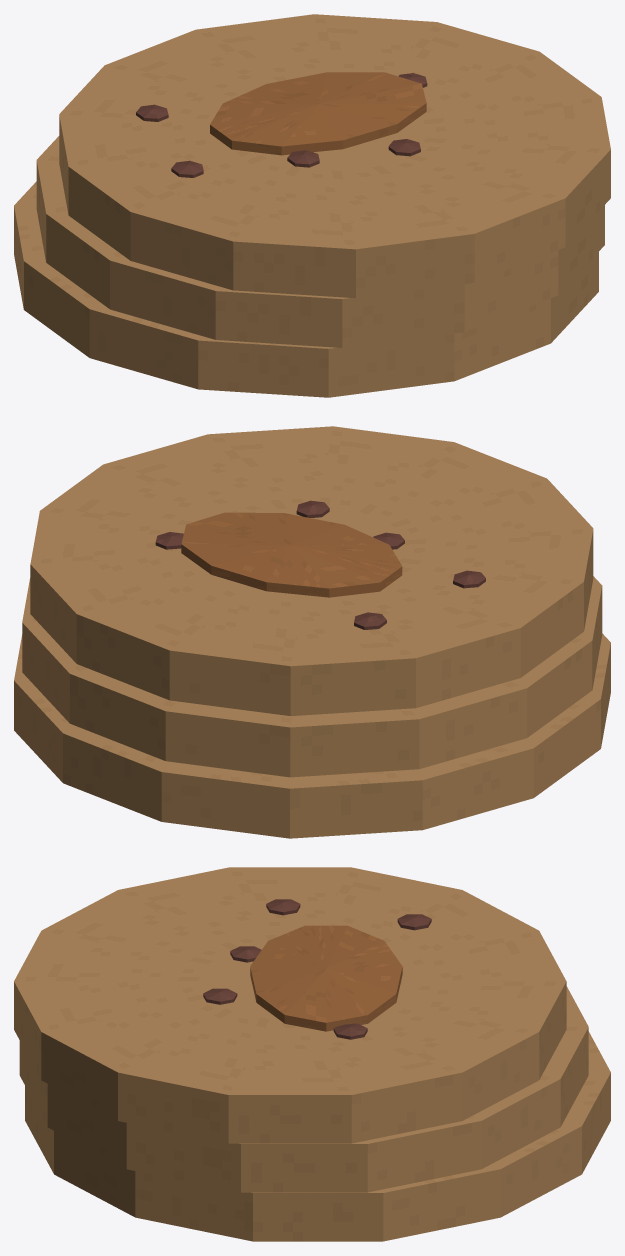
Rendered from choc_pancakes.glb.
3 renders of one model, top to bottom at view 1: azimuth 30°, elevation 25°; view 2: azimuth 150°, elevation 25°; view 3: azimuth 270°, elevation 25°, orthographic. The views are drawn at different scales.
Visible parts, largest first — view 1: block_chocolate pancake (×3), block_maple syrup; view 2: block_chocolate pancake (×3), block_maple syrup; view 3: block_chocolate pancake (×3), block_maple syrup.
Part boxes in pixels (box(x1,y1,x2,y2)): block_chocolate pancake (×3): box(14, 14, 610, 397); block_maple syrup: box(210, 72, 426, 155); block_chocolate pancake (×3): box(14, 426, 610, 838); block_maple syrup: box(181, 512, 402, 597); block_chocolate pancake (×3): box(14, 867, 610, 1241); block_maple syrup: box(250, 925, 402, 1031).
Size of the model in its own units: 0.0784 by 0.0242 by 0.0819.
1 material, 1 textured.
